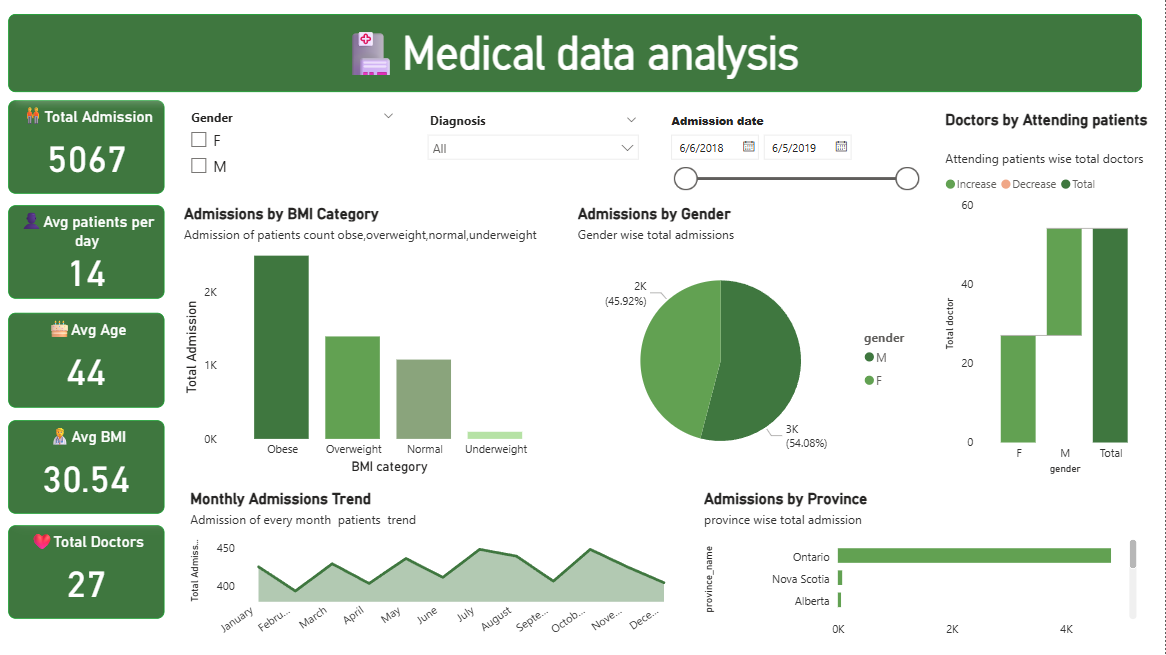

The page's visual inventory and layout, read from the dashboard file:
{"tool":"powerbi","page":{"name":"Page 1","canvas":[1280,720],"ordinal":0},"visuals":[{"type":"card","title":"🧑🤝🧑Total Admission","fields":{"Values":["Admission.Total Admission"]},"box":[12.1,111,171.3,102],"z":0},{"type":"card","title":"🎂Avg Age","fields":{"Values":["patients.Avg age"]},"box":[12.1,343.8,171.3,103.8],"z":1000},{"type":"card","title":"❤️Total Doctors","fields":{"Values":["Doctor.Total doctor"]},"box":[12.1,576.7,171.3,102.5],"z":2000},{"type":"card","title":"🧑⚕️Avg BMI","fields":{"Values":["patients.Avg BMI"]},"box":[12.1,462.1,171.3,102.5],"z":3000},{"type":"pieChart","title":"Admissions by Gender","fields":{"Category":["patients.gender"],"Y":["Admission.Total Admission"]},"box":[631,225,387.6,300.8],"z":4000},{"type":"clusteredColumnChart","title":"Admissions by BMI Category","fields":{"Category":["patients.BMI category"],"Y":["Admission.Total Admission"]},"box":[199.3,225,414.5,300.8],"z":5000},{"type":"clusteredBarChart","title":"Admissions by Province","fields":{"Category":["Province_name.province_name"],"Y":["Admission.Total Admission"]},"box":[770.4,536.8,484.2,171.2],"z":6000},{"type":"areaChart","title":"Monthly Admissions Trend","fields":{"Category":["Admission.admission_date.Variation.Date Hierarchy.Month"],"Y":["Admission.Total Admission"]},"box":[206.7,536.8,545.4,171.2],"z":7000},{"type":"slicer","fields":{"Values":["Admission.admission_date"]},"box":[726.4,118.6,292.3,95.4],"z":8000},{"type":"card","title":"👤Avg patients per day","fields":{"Values":["Admission.Avg patient par day"]},"box":[12.1,225.6,171.3,102.5],"z":9000},{"type":"waterfallChart","title":"Doctors by Attending patients ","fields":{"Y":["Doctor.Total doctor"],"Category":["patients.gender"]},"box":[1034.5,122.3,232.3,403.5],"z":10000},{"type":"slicer","fields":{"Values":["Admission.diagnosis"]},"box":[462.2,118.6,251.9,95.4],"z":11000},{"type":"slicer","fields":{"Values":["patients.gender"]},"box":[199.3,114.9,247,95.4],"z":12000},{"type":"textbox","box":[12.2,15.9,1242.4,85.6],"z":13000}]}

Visuals, with their boxes in screenshot pixels (x1, y1, x2, y2), scaled from the page's 1280x720 canvas onto the 1166x655 screenshot:
"🧑🤝🧑Total Admission" card: x1=11, y1=101, x2=167, y2=194
"🎂Avg Age" card: x1=11, y1=313, x2=167, y2=407
"❤️Total Doctors" card: x1=11, y1=525, x2=167, y2=618
"🧑⚕️Avg BMI" card: x1=11, y1=420, x2=167, y2=514
"Admissions by Gender" pieChart: x1=575, y1=205, x2=928, y2=478
"Admissions by BMI Category" clusteredColumnChart: x1=182, y1=205, x2=559, y2=478
"Admissions by Province" clusteredBarChart: x1=702, y1=488, x2=1143, y2=644
"Monthly Admissions Trend" areaChart: x1=188, y1=488, x2=685, y2=644
slicer - Admission.admission_date: x1=662, y1=108, x2=928, y2=195
"👤Avg patients per day" card: x1=11, y1=205, x2=167, y2=298
"Doctors by Attending patients " waterfallChart: x1=942, y1=111, x2=1154, y2=478
slicer - Admission.diagnosis: x1=421, y1=108, x2=651, y2=195
slicer - patients.gender: x1=182, y1=105, x2=407, y2=191
textbox: x1=11, y1=14, x2=1143, y2=92
